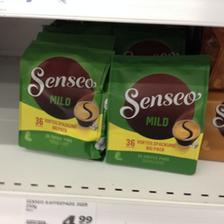Kaffee: (105, 54, 209, 174), (17, 38, 107, 160)
